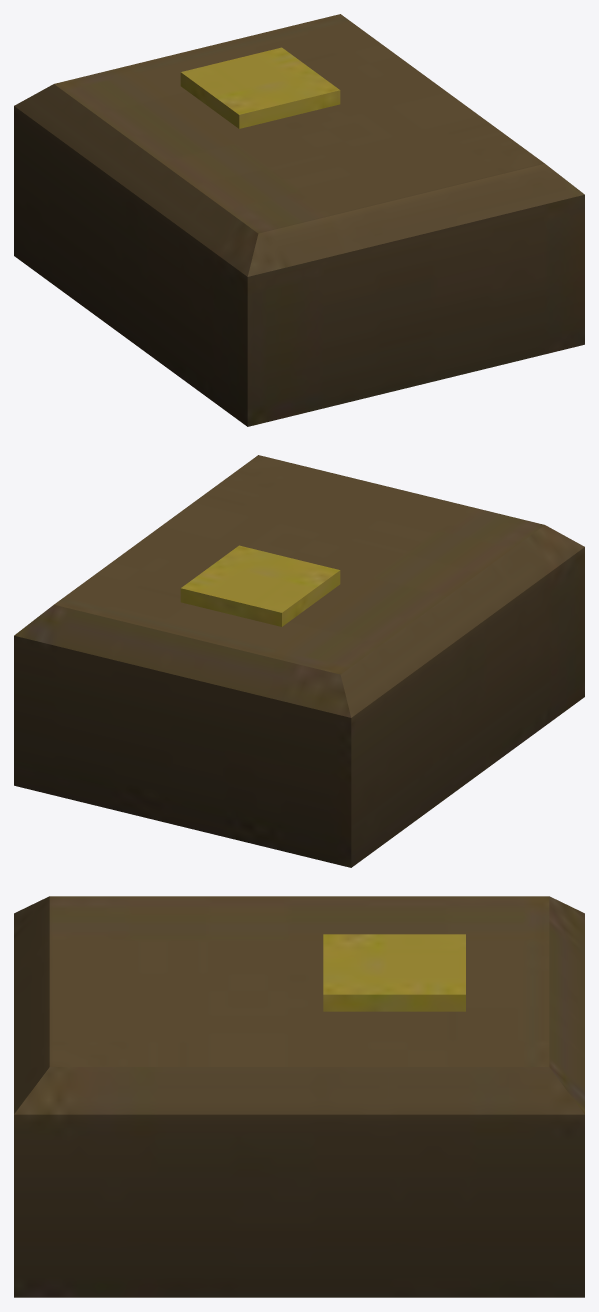
File: decider-combinator.glb
3 views of the same model, one above another, from view 1: azimuth 30°, elevation 25°; view 2: azimuth 150°, elevation 25°; view 3: azimuth 270°, elevation 25° (orthographic). The views are drawn at different scales.
Visible parts, largest first — view 1: decider-combinator; view 2: decider-combinator; view 3: decider-combinator.
Part boxes in pixels (x1=…): decider-combinator: x1=14, y1=14, x2=584, y2=426; decider-combinator: x1=14, y1=455, x2=584, y2=867; decider-combinator: x1=14, y1=896, x2=584, y2=1297.
Size of the model in its own units: 0.2 by 0.108 by 0.24.
Materials: 1 (1 with a texture image).
